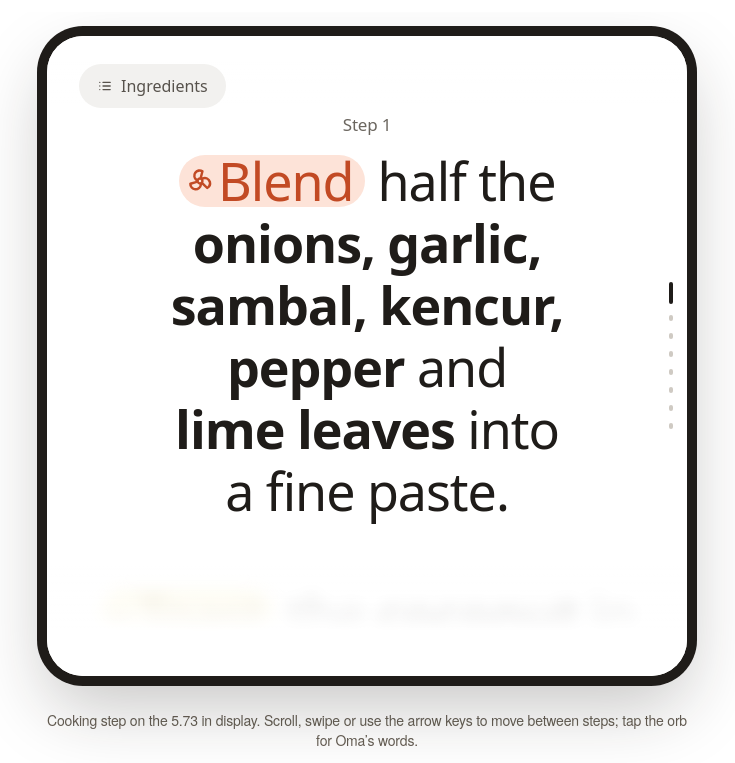
Scenario: CookingStepBoard › moves with a vertical swipe
Press the mouse on the element named "Oma Lien’s recipe, step 1 of 8": (367, 356) [47, 36, 687, 676]
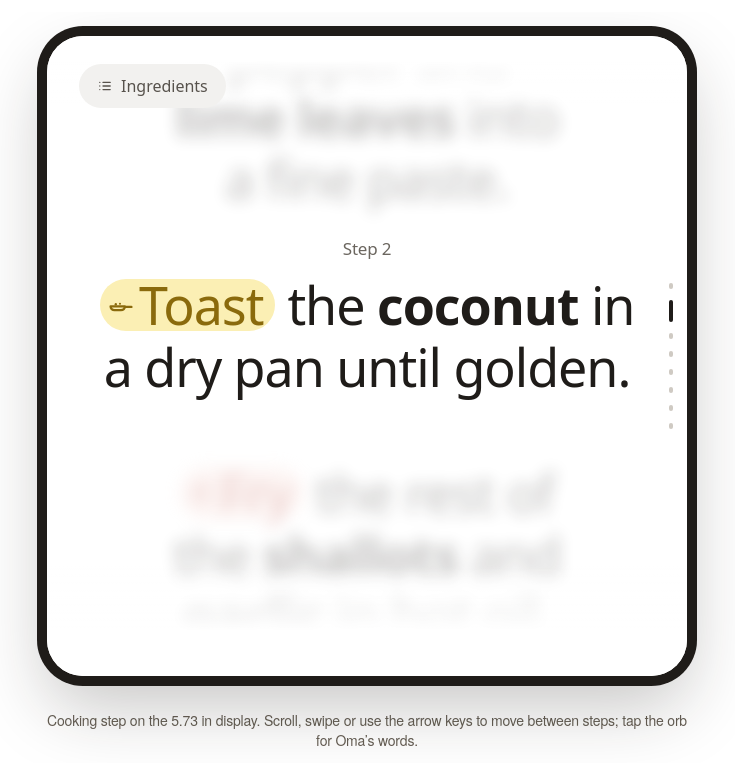
Expected: the element with class "cs-step" shows "Step 2", [95, 274, 639, 398]
Press the mouse on the element named "Oma Lien’s recipe, step 2 of 8": (367, 356) [47, 36, 687, 676]
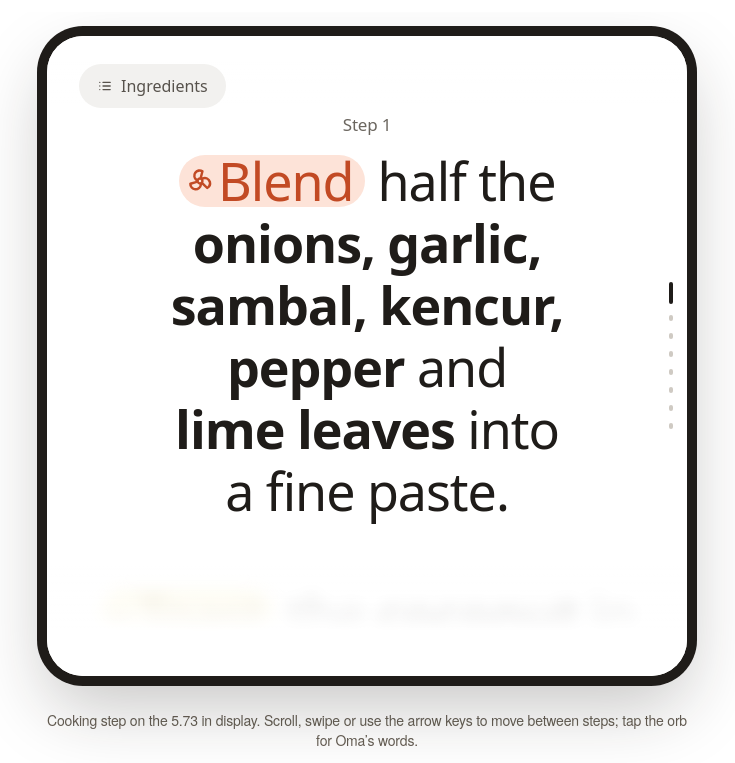
Expected: the element with class "cs-step" shows "Step 1", [171, 145, 563, 526]
